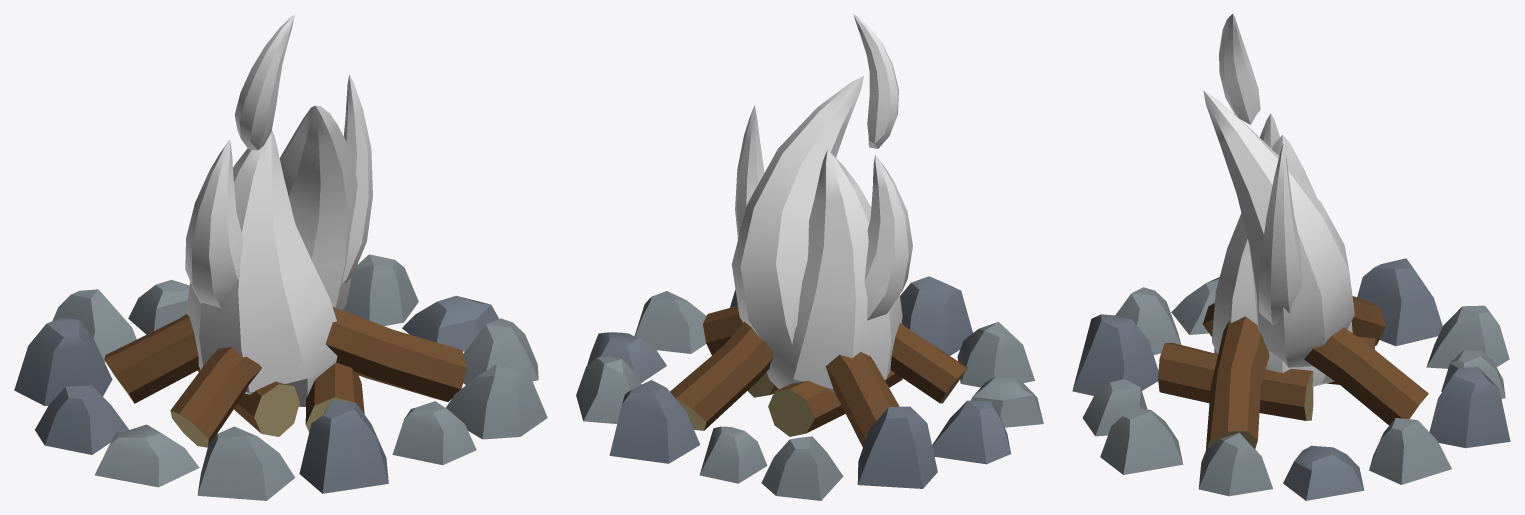
File: prop-qv-bonfirelit.glb
3 renders of one model, left to right at view 1: azimuth 30°, elevation 25°; view 2: azimuth 150°, elevation 25°; view 3: azimuth 270°, elevation 25°, orthographic. The views are drawn at different scales.
Parts seen in each view (by area): view 1: Cylinder_009; view 2: Cylinder_009; view 3: Cylinder_009.
Boxes of the visible parts, left/top/right/bottom form: Cylinder_009: left=14, top=14, right=547, bottom=500; Cylinder_009: left=576, top=14, right=1043, bottom=500; Cylinder_009: left=1072, top=14, right=1510, bottom=500.
Size of the model in its own units: 1.02 by 0.8821 by 0.906.
